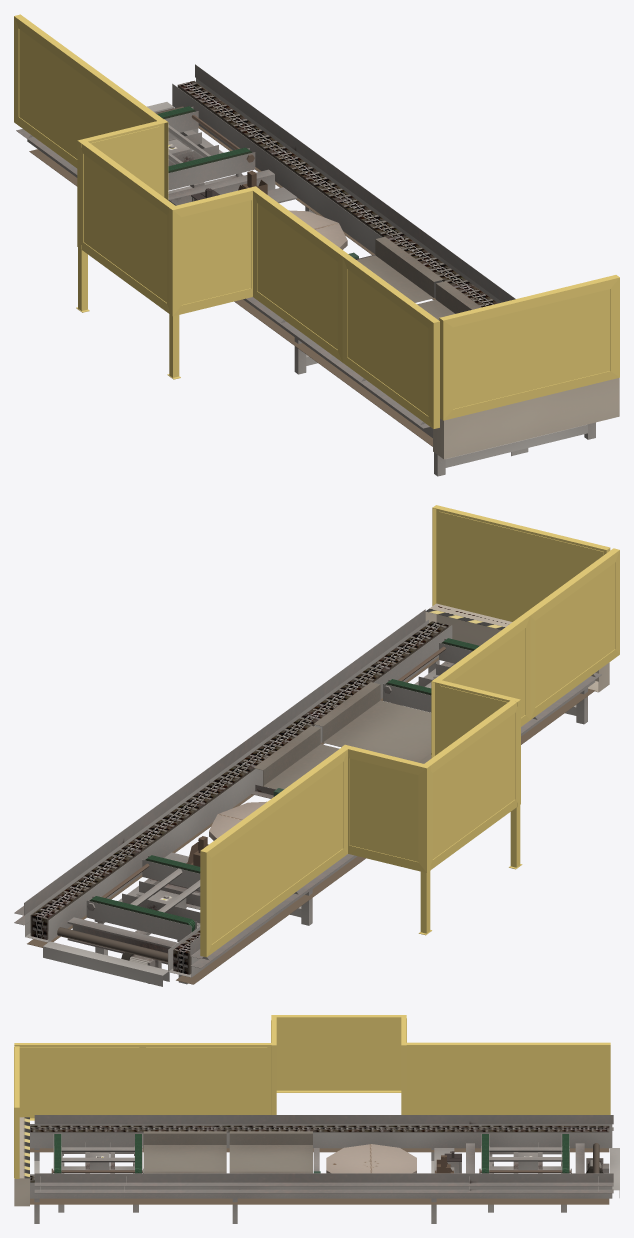
File: liushui1.FBX
The picture shows the model from 3 angles, top to bottom: view 1: azimuth 30°, elevation 25°; view 2: azimuth 150°, elevation 25°; view 3: azimuth 270°, elevation 25°; orthographic projection. The views are drawn at different scales.
Parts seen in each view (by area): view 1: YF_Model_liushui1; view 2: YF_Model_liushui1; view 3: YF_Model_liushui1.
Part boxes in pixels (x1,y1,x2,y2): YF_Model_liushui1: (14, 14, 619, 476); YF_Model_liushui1: (14, 505, 619, 986); YF_Model_liushui1: (14, 1015, 619, 1223).
Bounding box in the file's own units: 106 × 62.46 × 286.
Materials: 1 (1 with a texture image).
